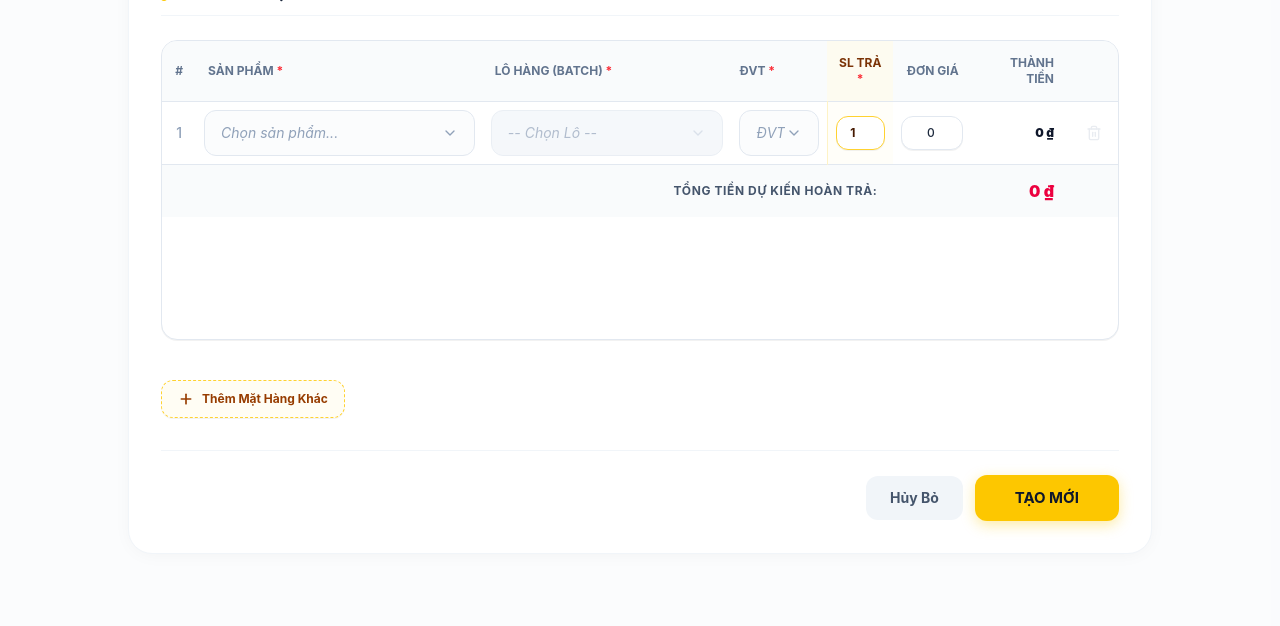
Module 13 - CustomerReturnForm Component › TC03 - Bắt lỗi validation khi submit form mà chưa chọn Đơn hàng hoặc Mặt hàng
(page scrolled)
Click the button "TẠO MỚI". click: [1047, 498]
box: [975,474,1119,521]
(page scrolled)
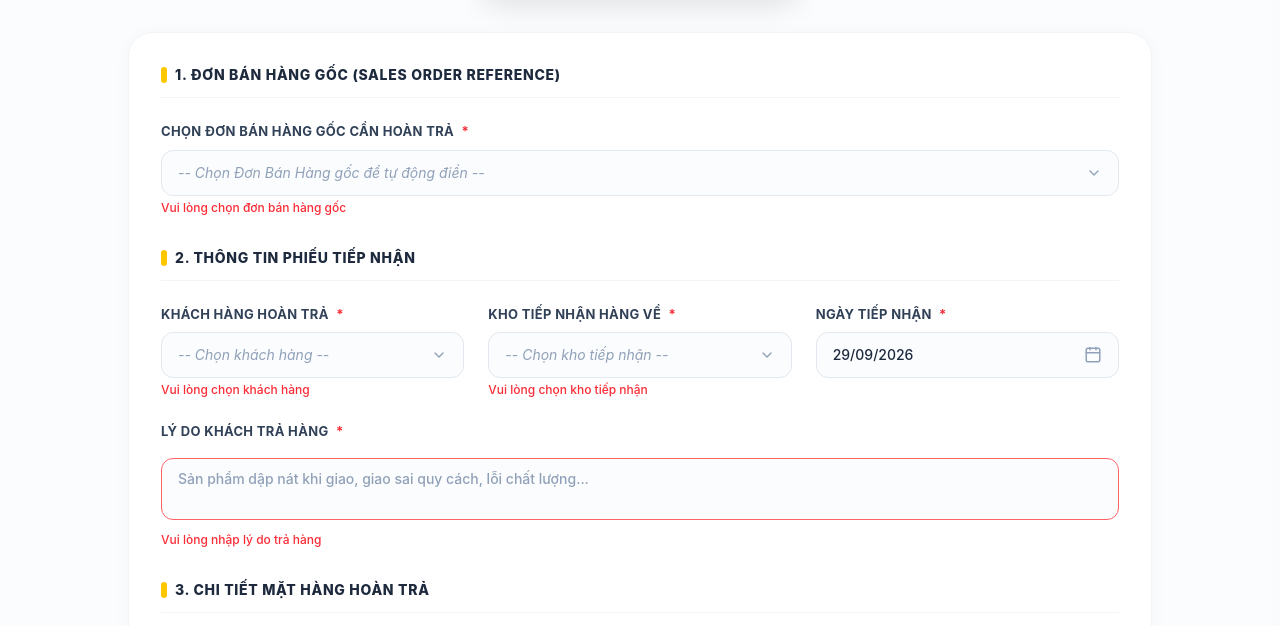
Now the text "Vui lòng chọn đơn bán hàng gốc" is shown, box [161,200,346,214]
